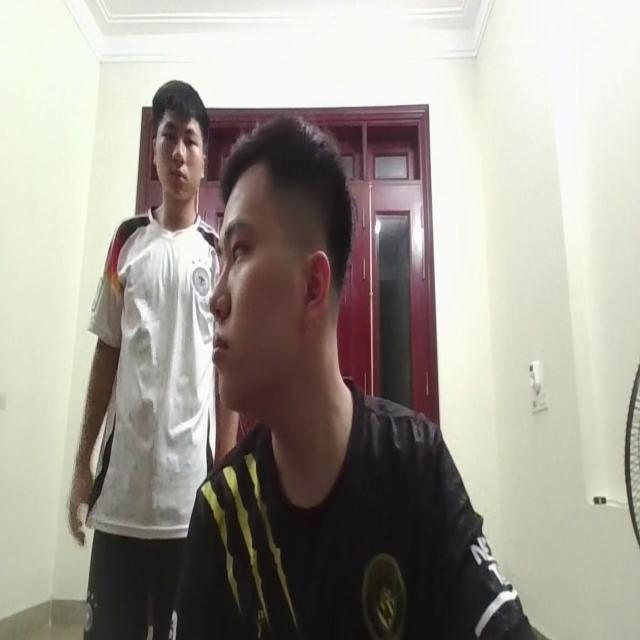extra_person: (66, 90, 222, 596)
student: (191, 114, 500, 640)
